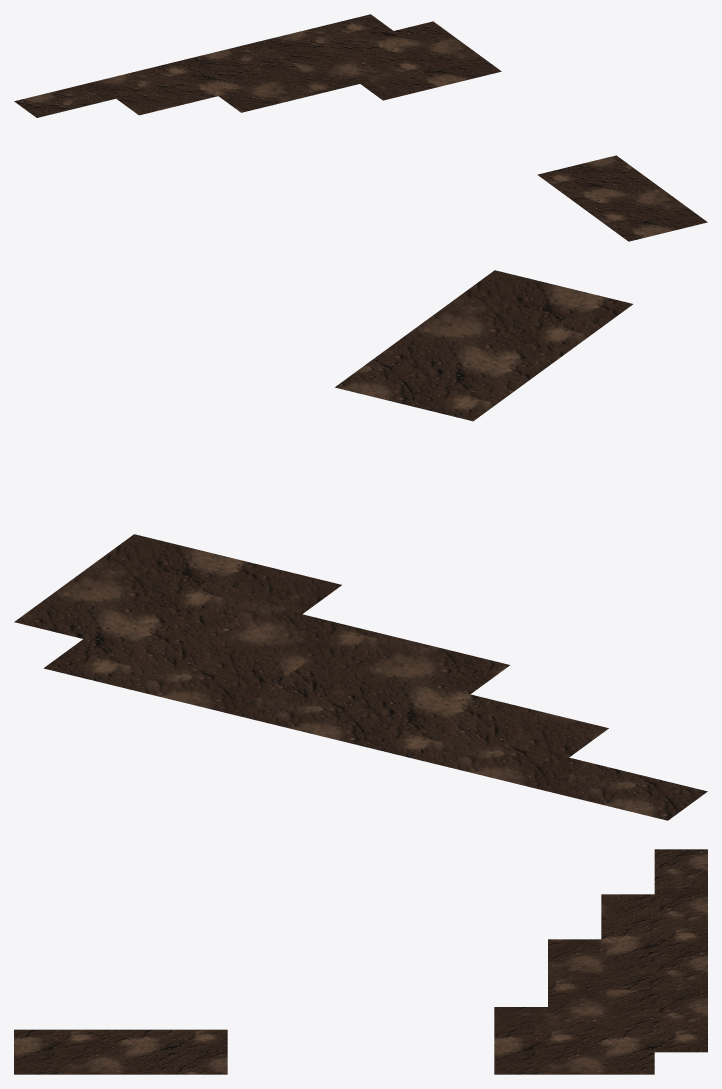
Rendered from floor_-2_-2.glb.
The picture shows the model from 3 angles, top to bottom: view 1: azimuth 30°, elevation 25°; view 2: azimuth 150°, elevation 25°; view 3: azimuth 270°, elevation 25°; orthographic projection. The views are drawn at different scales.
Parts seen in each view (by area): view 1: floor_-2_-2; view 2: floor_-2_-2; view 3: floor_-2_-2.
Part boxes in pixels (x1,y1,x2,y2): floor_-2_-2: [14, 14, 707, 241]; floor_-2_-2: [14, 270, 707, 820]; floor_-2_-2: [14, 849, 707, 1074].
Bounding box in the file's own units: 40 × 0 × 52.
1 material, 1 textured.
